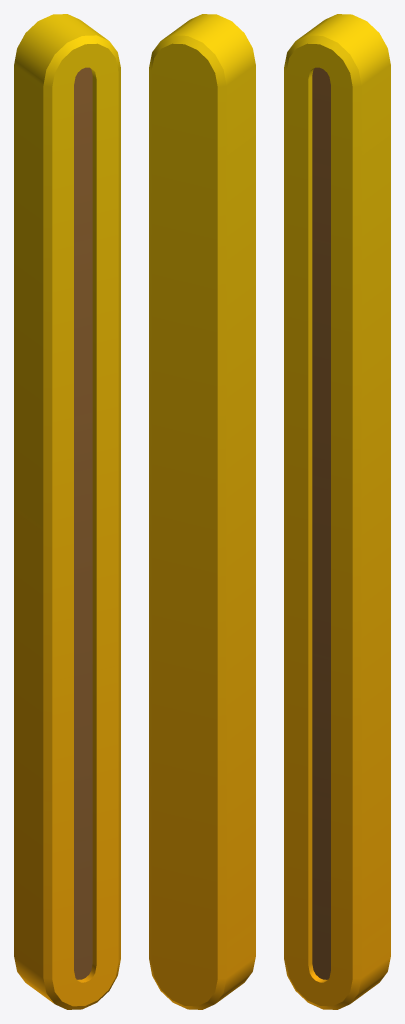
File: Elevator_01.glb
3 renders of one model, left to right at view 1: azimuth 30°, elevation 25°; view 2: azimuth 150°, elevation 25°; view 3: azimuth 330°, elevation 25°, orthographic.
Parts seen in each view (by area): view 1: Elevator_01; view 2: Elevator_01; view 3: Elevator_01.
Part boxes in pixels (x1,y1,x2,y2): Elevator_01: [14, 14, 120, 1009]; Elevator_01: [149, 14, 255, 1009]; Elevator_01: [284, 14, 390, 1009].
Size of the model in its own units: 0.8325 by 10 by 0.6647.
1 material, 1 textured.
